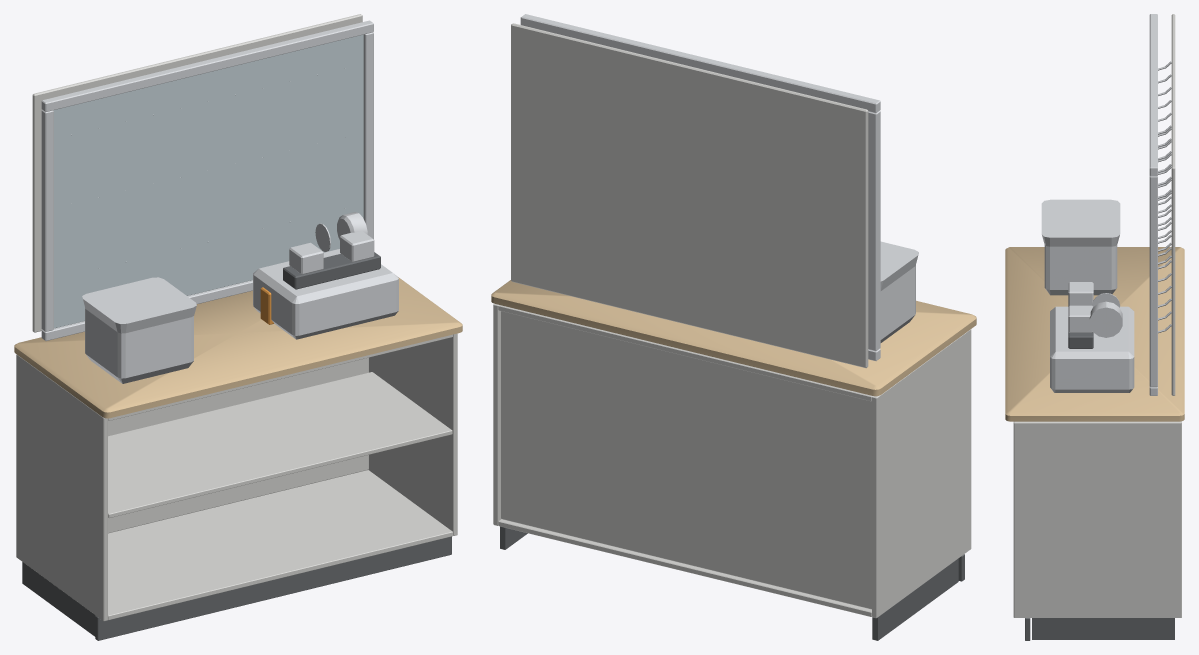
The model's file is key-cutting-booth.glb.
3 views of the same model, side by side, from view 1: azimuth 30°, elevation 25°; view 2: azimuth 150°, elevation 25°; view 3: azimuth 270°, elevation 25° (orthographic). The views are drawn at different scales.
Parts seen in each view (by area): view 1: key-cutting-booth, blank-board-door/glass, blank-board-door/metal; view 2: key-cutting-booth, blank-board-door/metal; view 3: key-cutting-booth, blank-board-door/metal.
Part boxes in pixels (box(x1,y1,x2,y2)): key-cutting-booth: box(14, 14, 462, 640); blank-board-door/glass: box(53, 34, 363, 328); blank-board-door/metal: box(41, 20, 373, 340); key-cutting-booth: box(491, 23, 976, 640); blank-board-door/metal: box(520, 14, 880, 360); key-cutting-booth: box(1005, 14, 1184, 640); blank-board-door/metal: box(1149, 14, 1157, 395).
Bounding box in the file's own units: 1.42 × 1.84 × 0.64.
